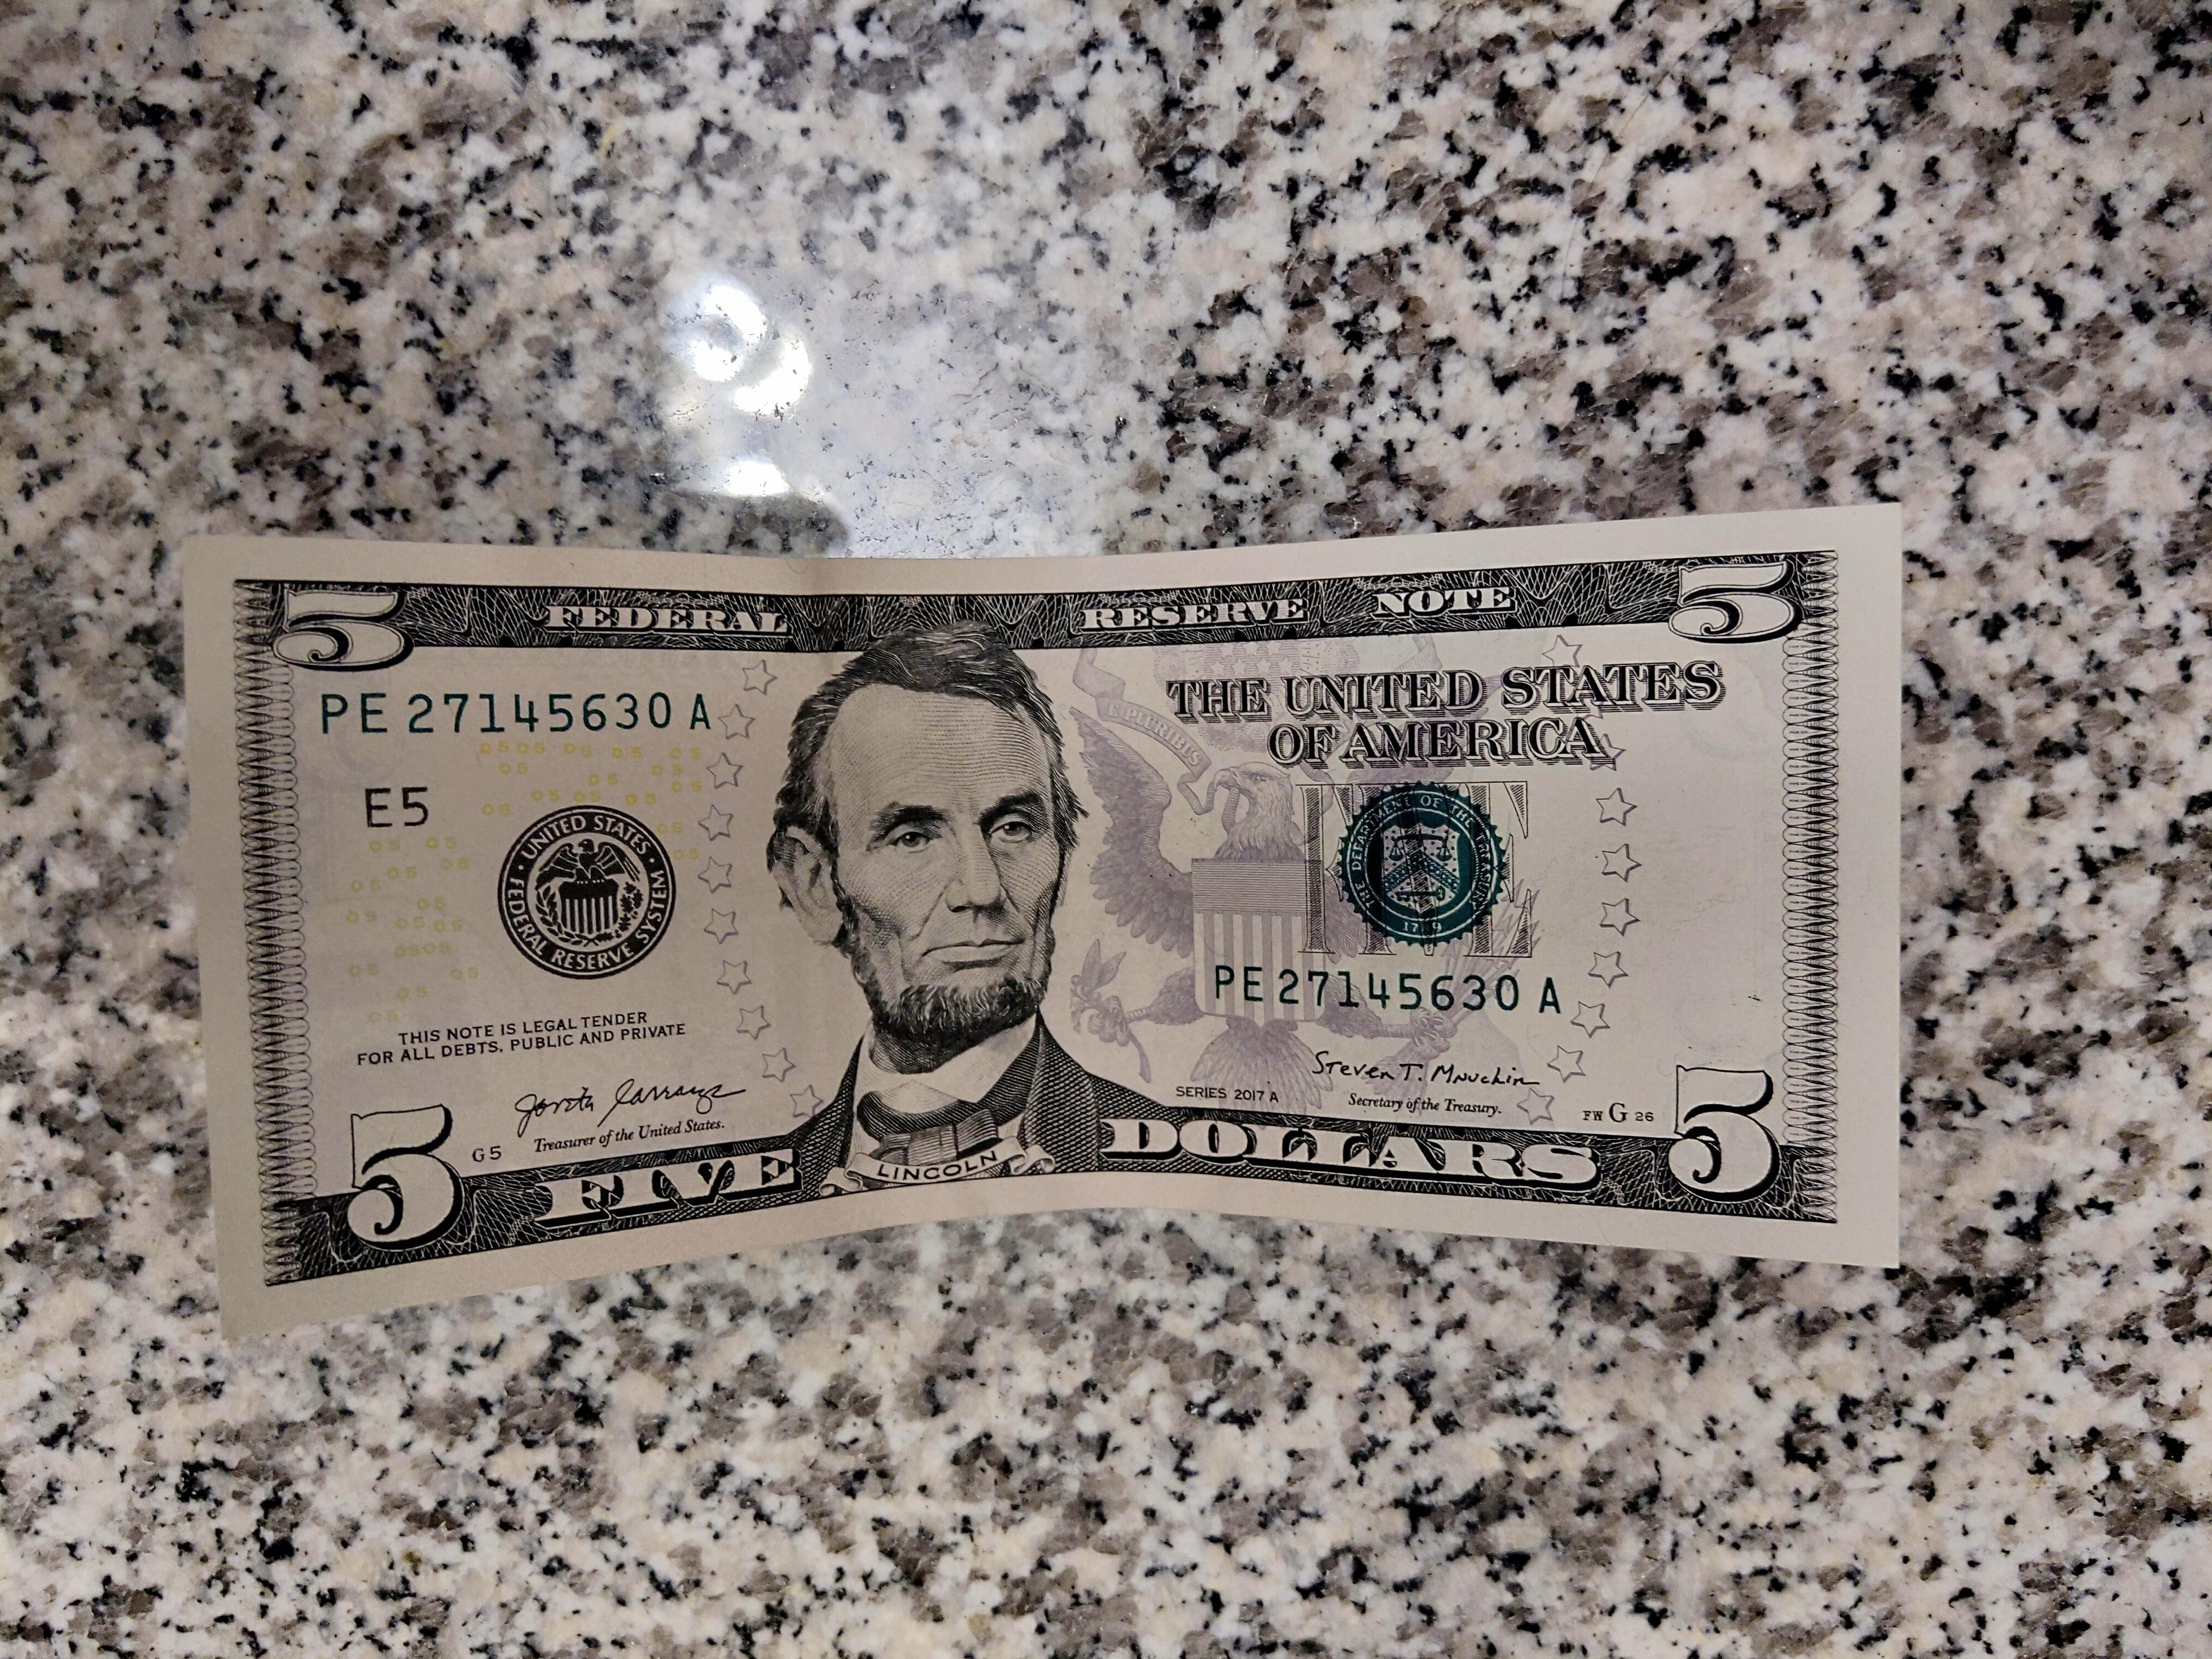FiveBill: (176, 497, 1905, 1347)
